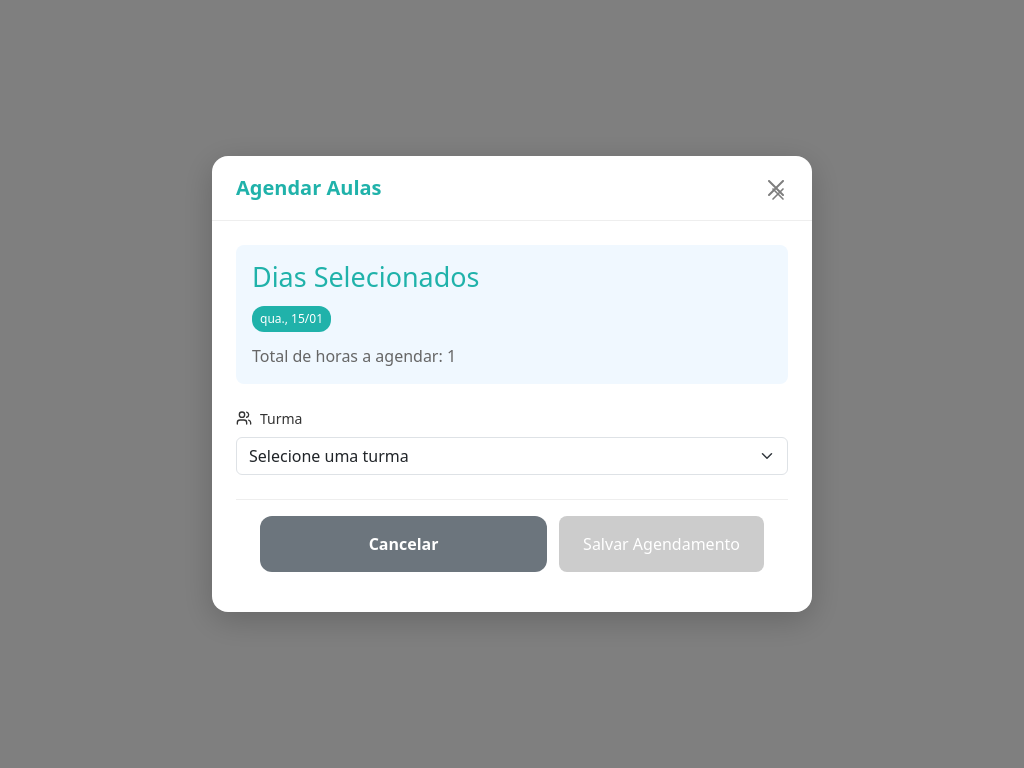
Test: AdicionarAulaDialog › habilita botão salvar quando todos os campos estão preenchidos
# Seleciona Turma (primeiro select)
Select "Turma A" in the dropdown with class "form-select" at (512, 456), box [236,437,788,475]
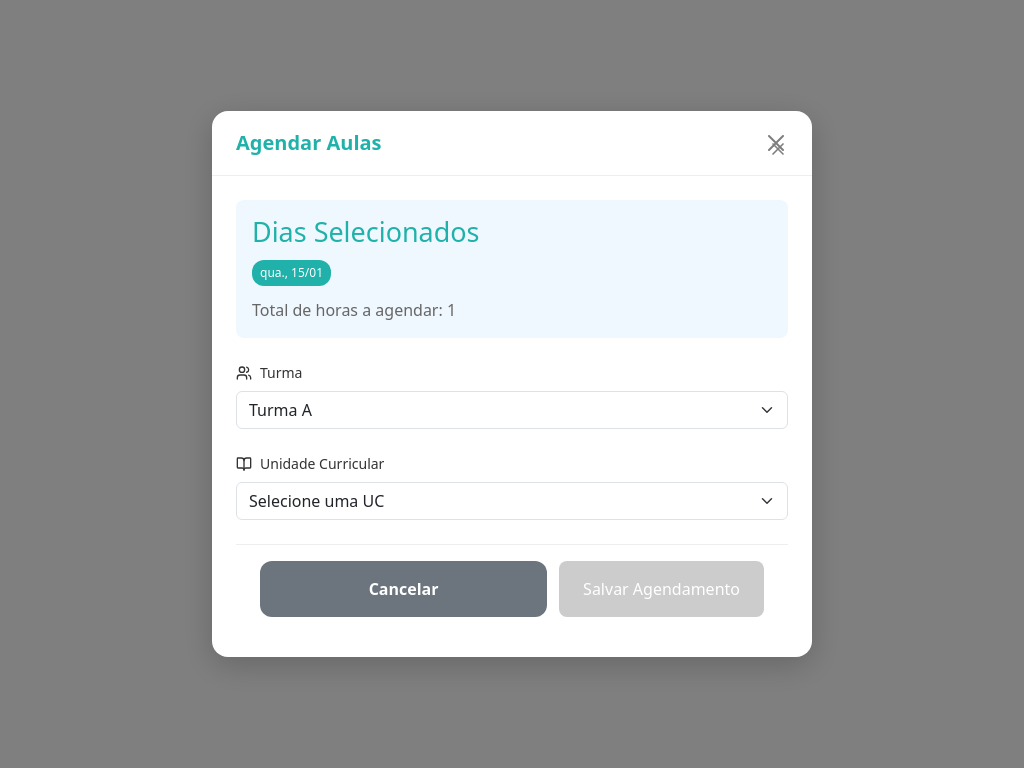
Select "Programação Web (96h restantes)" in the dropdown with class "form-select" below "Unidade Curricular" at (512, 501), box [236,482,788,520]
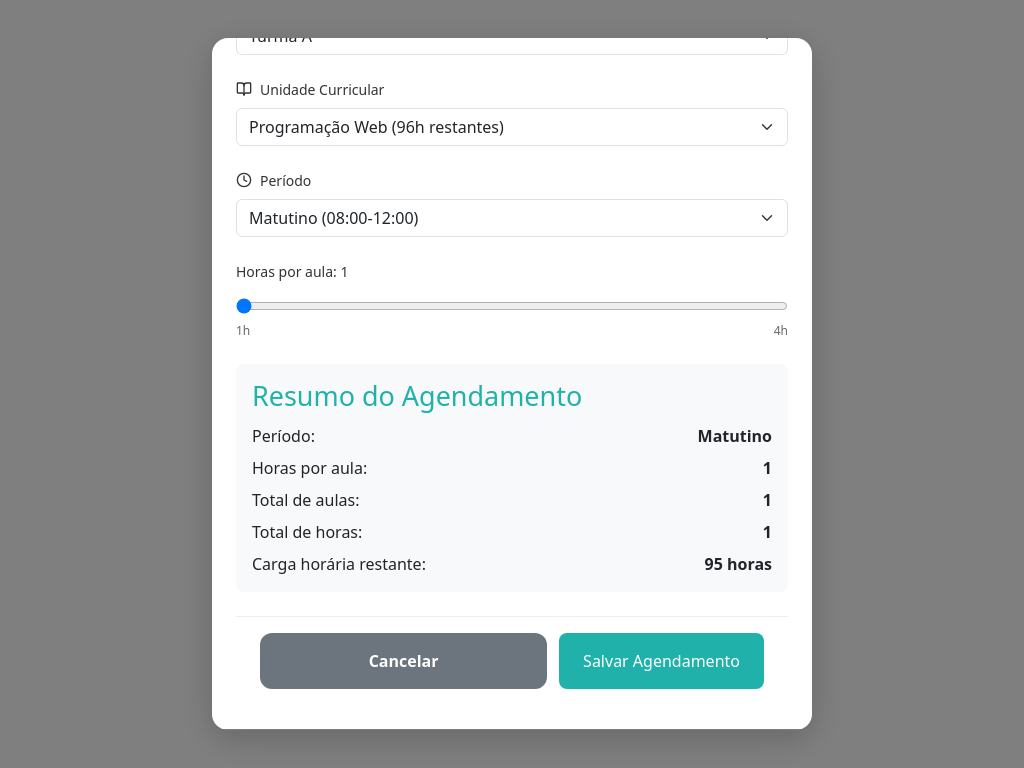
Now the button "Salvar Agendamento" is enabled, box [559,633,764,689]
